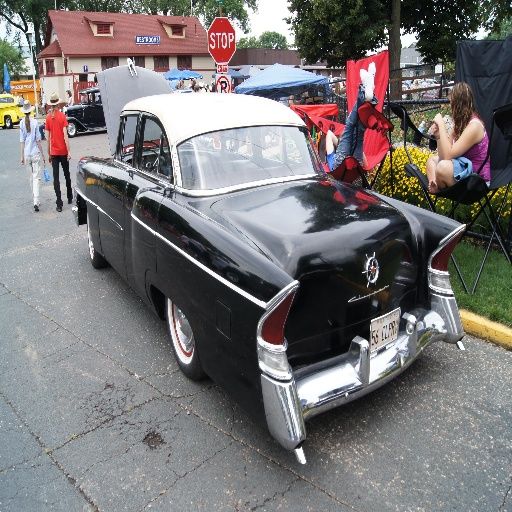hand: (431, 111, 443, 128), (431, 122, 437, 137), (41, 155, 46, 165), (47, 157, 53, 165), (66, 153, 71, 162), (21, 157, 24, 165)
